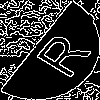R: (25, 25, 93, 80)
